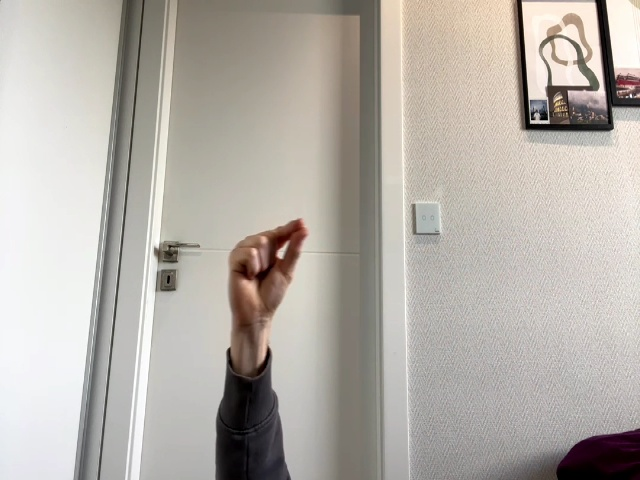P: (229, 217, 310, 329)
